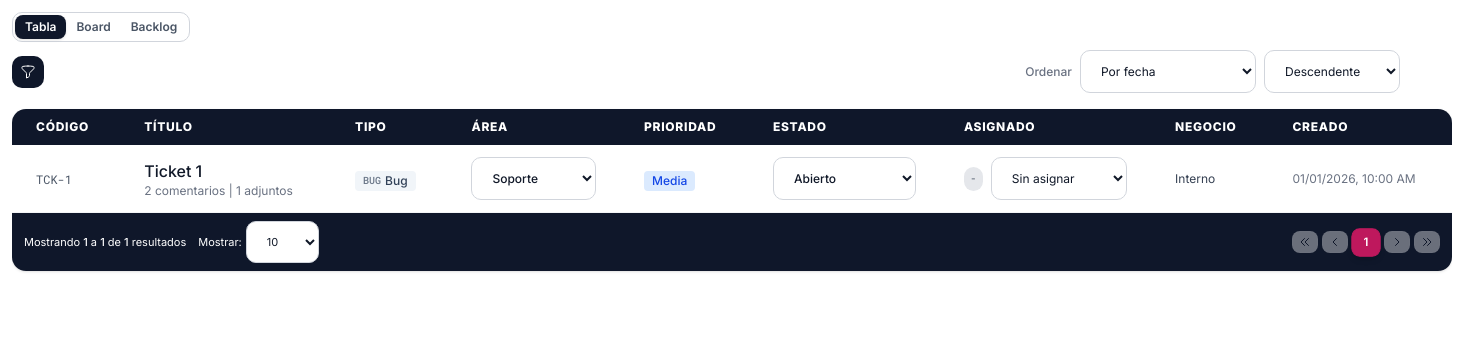
Test: TicketsManager › cambio de vista › en backlog no vuelve a pedir el listado principal
Click the button "Backlog" at (154, 27), box [121,15,187,39]
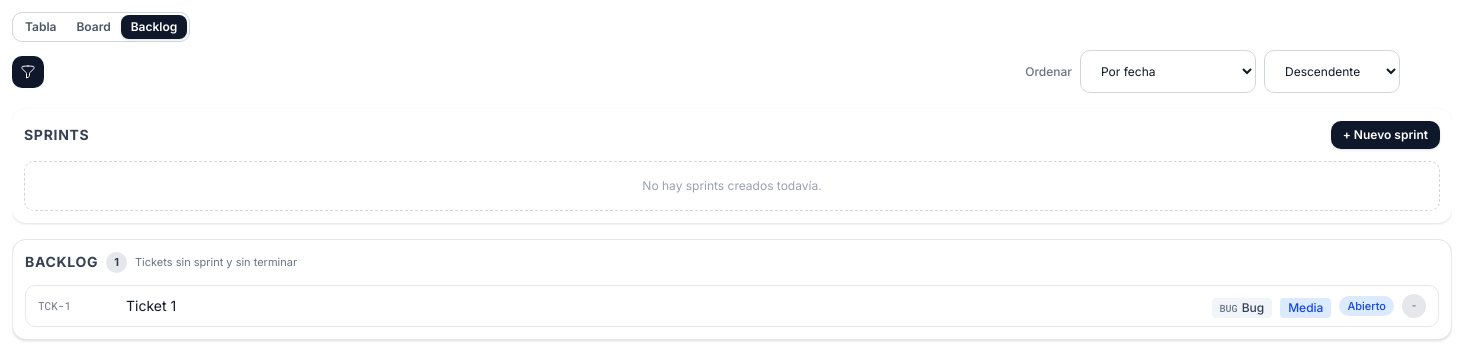
Check: the heading "Sprints" is shown, box [24,125,89,145]
